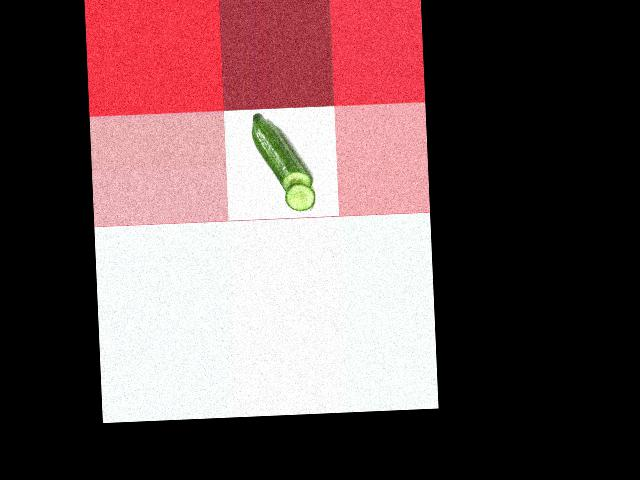cucumber: (251, 111, 312, 194)
